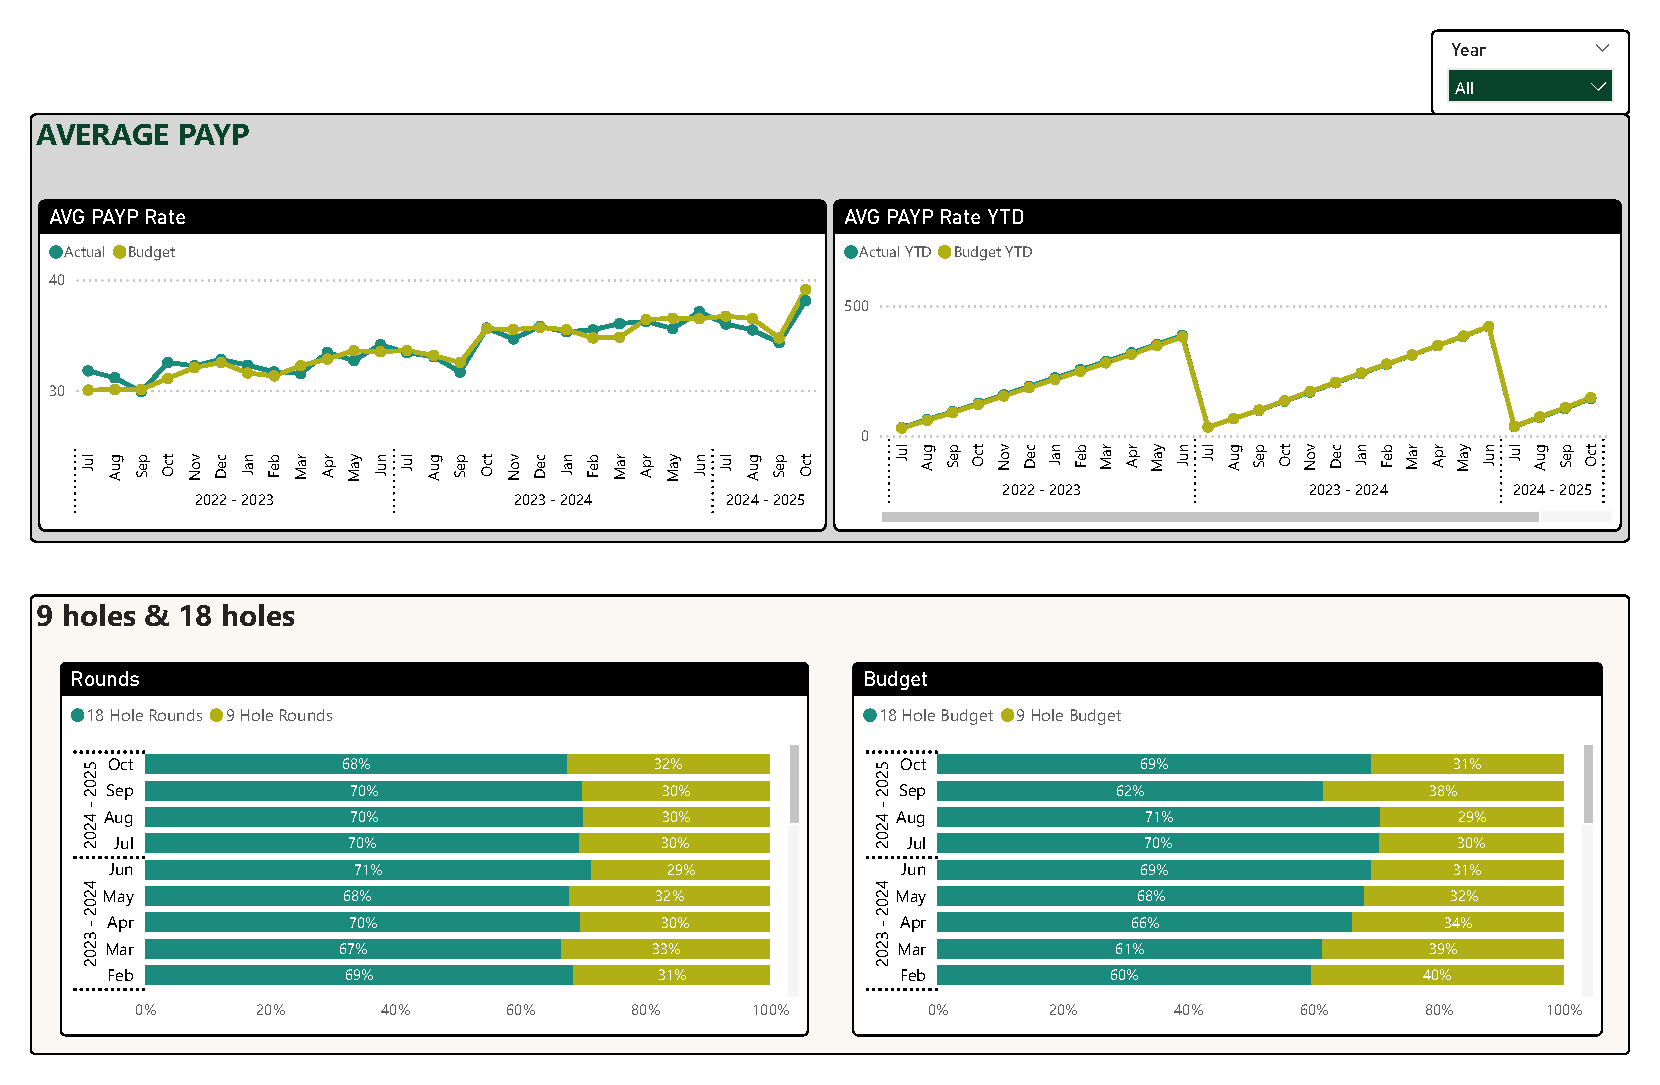

The page's visual inventory and layout, read from the dashboard file:
{"tool":"powerbi","page":{"name":"AVE PAYP , 9h&18h","canvas":[1280,820],"ordinal":13},"visuals":[{"type":"textbox","box":[0,451.8,1280,368.2],"z":0},{"type":"textbox","box":[0,67.3,1280,342.7],"z":1000},{"type":"textbox","title":"PAYP box","box":[0,67.3,371.2,53],"z":6000},{"type":"hundredPercentStackedBarChart","title":"Rounds","fields":{"Y":["MSS Report.18 Hole Rounds","Sum(MSS Report.Actual)"],"Category":["MSS Date Dim.Year","MSS Date Dim.Month"]},"box":[23.6,505.6,599.8,299],"z":9000},{"type":"lineChart","title":"AVG PAYP Rate","fields":{"Y":["Sum(MSS Report.Actual)","Sum(MSS Report.Budget)"],"Category":["MSS Date Dim.Year","MSS Date Dim.Month"]},"box":[7.1,135.6,630.3,265.2],"z":11000},{"type":"slicer","title":"Year","fields":{"Values":["MSS Date Dim.Financial Year"]},"box":[1120.8,0,159.2,67.5],"z":12000},{"type":"hundredPercentStackedBarChart","title":"Budget","fields":{"Y":["MSS Report.18 Hole Budget","MSS Report.9 Hole Budget"],"Category":["MSS Date Dim.Year","MSS Date Dim.Month"]},"box":[657.8,505.6,599.8,299],"z":13000},{"type":"lineChart","title":"AVG PAYP Rate YTD","fields":{"Y":["MSS Report.Cum. Actual","MSS Report.Cum. Budget"],"Category":["MSS Date Dim.Year","MSS Date Dim.Month"]},"box":[642.5,135.6,630.3,265.2],"z":14000},{"type":"textbox","title":"PAYP box","box":[0,451.8,657.8,53],"z":15000}]}

Visuals, with their boxes in screenshot pixels (x1, y1, x2, y2), scaled from the page's 1280x820 canvas onto the 1660x1085 screenshot:
textbox: x1=0 y1=598 x2=1659 y2=1084
textbox: x1=0 y1=89 x2=1659 y2=542
"PAYP box" textbox: x1=0 y1=89 x2=481 y2=159
"Rounds" hundredPercentStackedBarChart: x1=31 y1=669 x2=808 y2=1065
"AVG PAYP Rate" lineChart: x1=9 y1=179 x2=827 y2=530
"Year" slicer: x1=1454 y1=0 x2=1659 y2=89
"Budget" hundredPercentStackedBarChart: x1=853 y1=669 x2=1631 y2=1065
"AVG PAYP Rate YTD" lineChart: x1=833 y1=179 x2=1651 y2=530
"PAYP box" textbox: x1=0 y1=598 x2=853 y2=668
